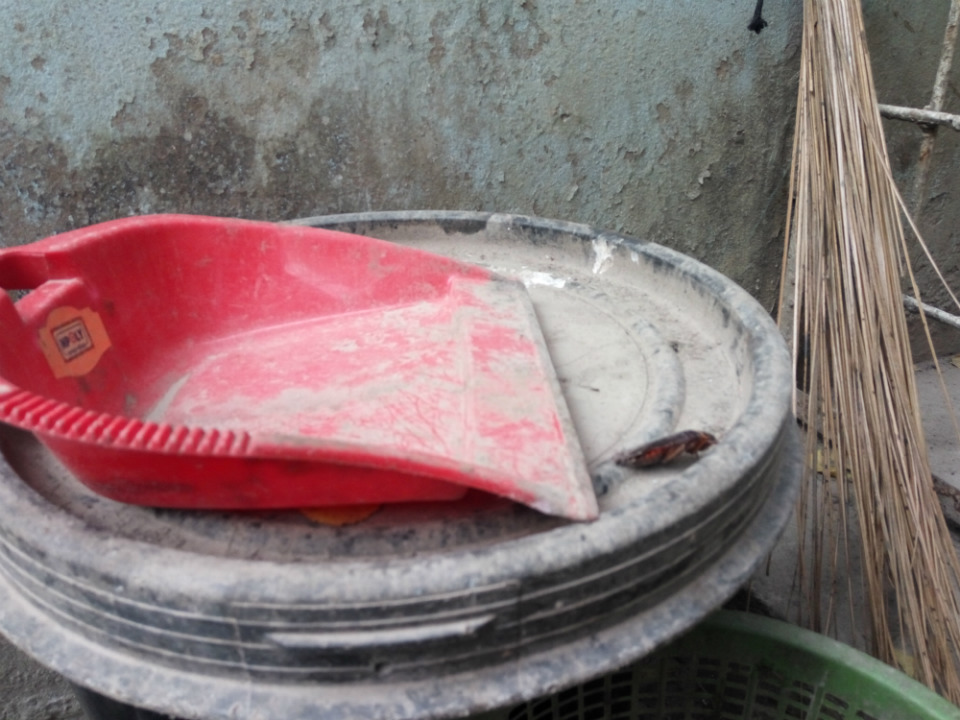cockroach: (592, 420, 733, 474)
